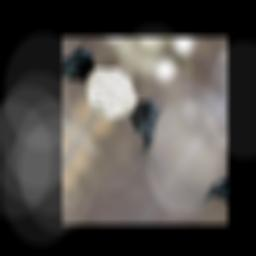Crow: (113, 89, 173, 155)
